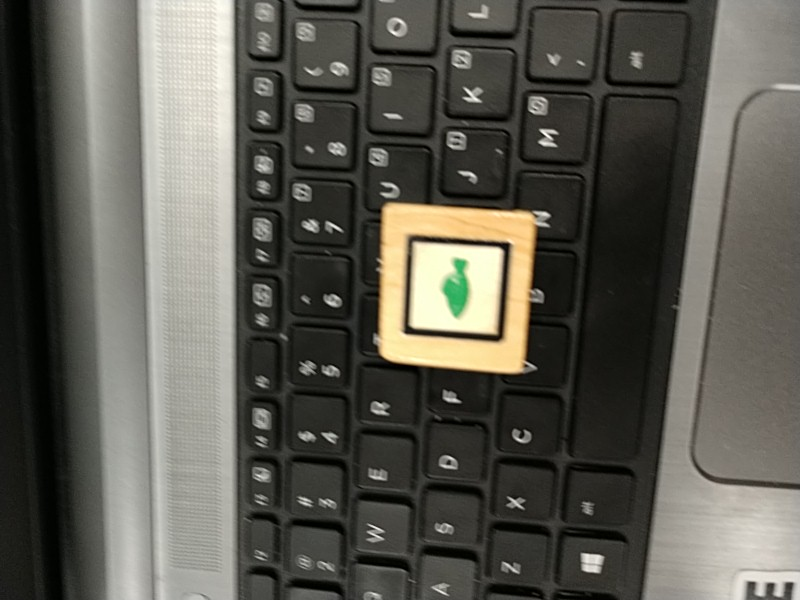Fish Tile: (391, 226, 515, 348)
